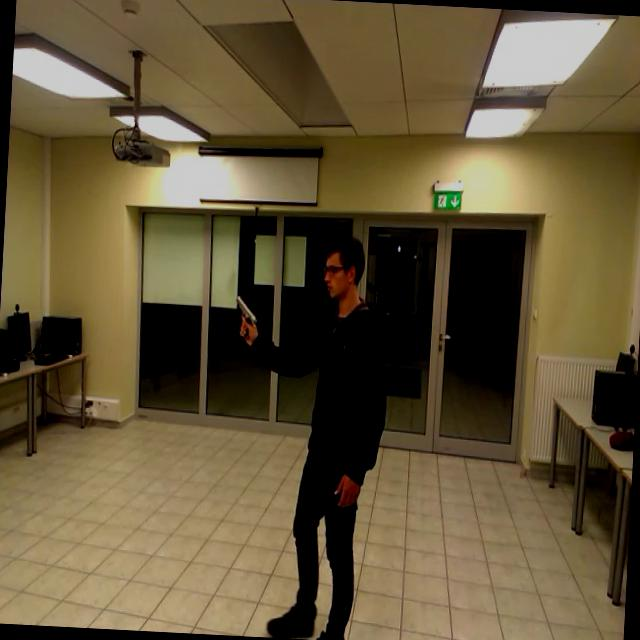handgun: (225, 287, 268, 353)
